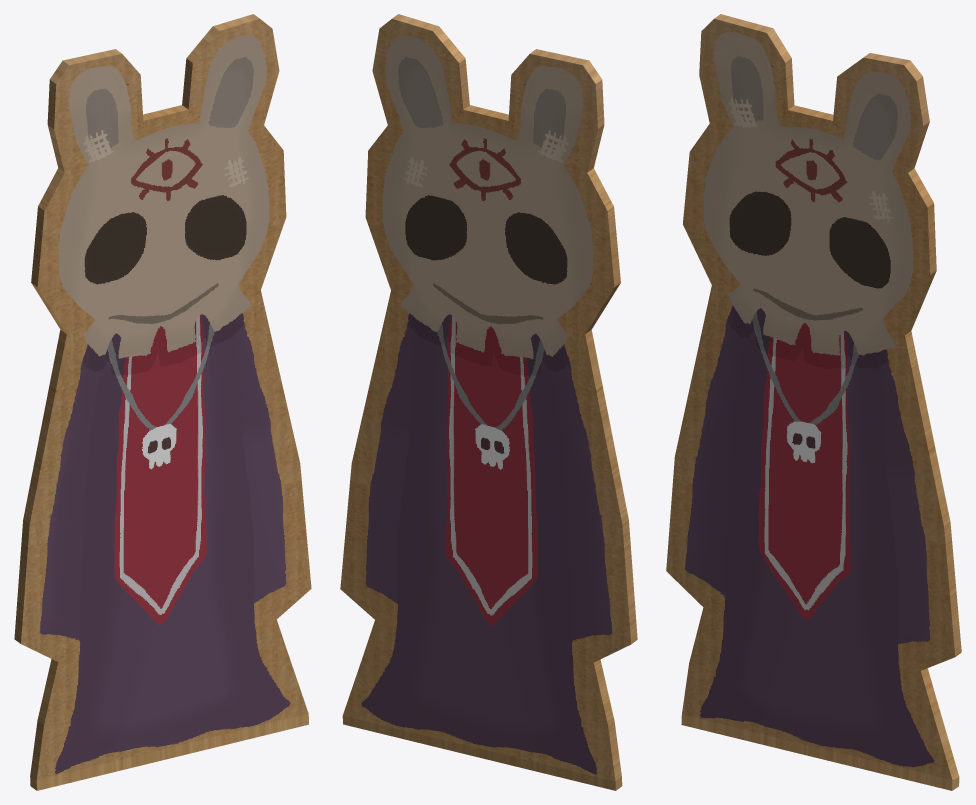
Rendered from NPC_Base_1_Cultist.glb.
3 views of the same model, side by side, from view 1: azimuth 30°, elevation 25°; view 2: azimuth 150°, elevation 25°; view 3: azimuth 330°, elevation 25° (orthographic).
Parts seen in each view (by area): view 1: NPC_Base_1_Cultist; view 2: NPC_Base_1_Cultist; view 3: NPC_Base_1_Cultist.
Boxes of the visible parts, left/top/right/bottom form: NPC_Base_1_Cultist: left=14, top=14, right=311, bottom=790; NPC_Base_1_Cultist: left=340, top=14, right=637, bottom=790; NPC_Base_1_Cultist: left=666, top=14, right=961, bottom=790.
Size of the model in its own units: 0.7739 by 1.83 by 0.0318.
Materials: 1 (1 with a texture image).
